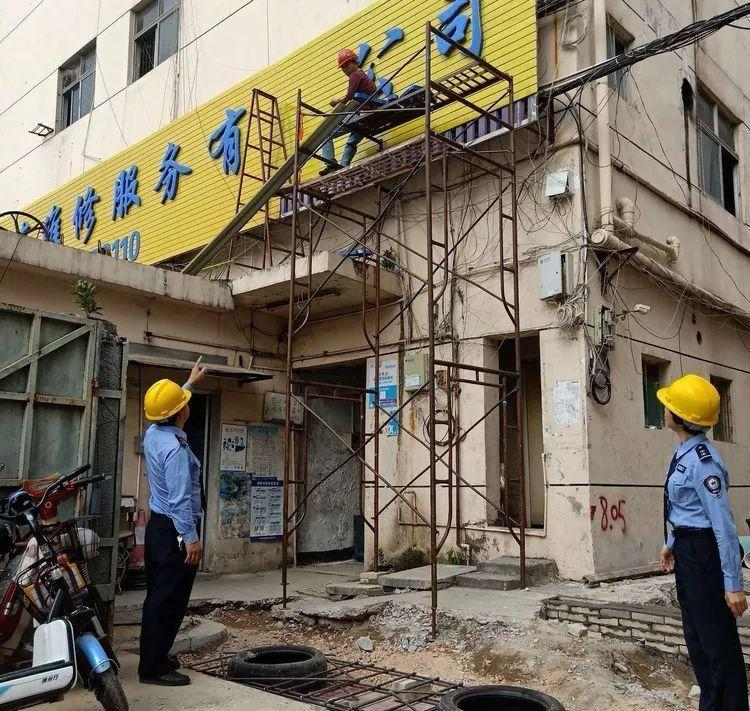helmet: (652, 373, 723, 429), (147, 382, 192, 422), (339, 44, 359, 69)
